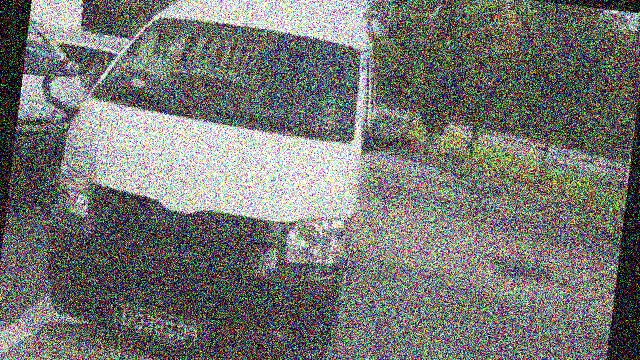van: (24, 0, 403, 360)
